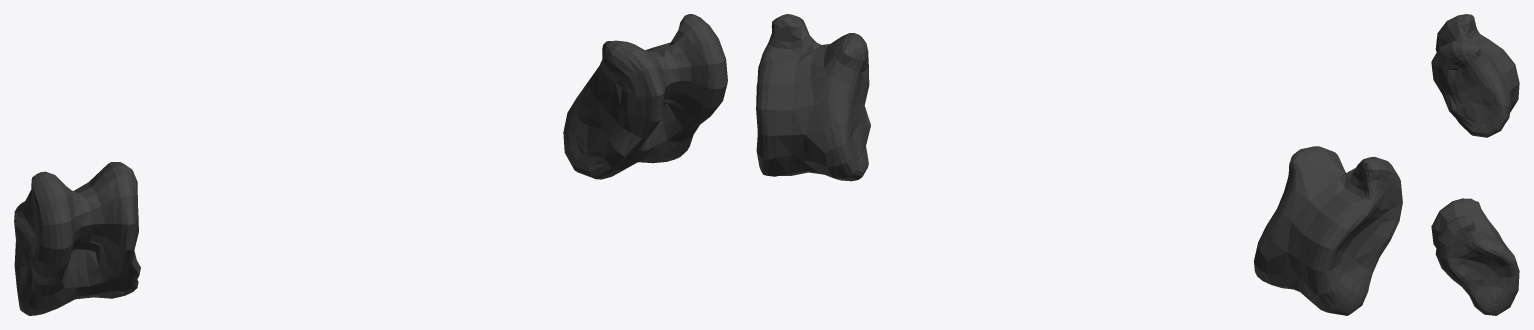
File: b_talus_L_LO.glb
3 renders of one model, left to right at view 1: azimuth 30°, elevation 25°; view 2: azimuth 150°, elevation 25°; view 3: azimuth 270°, elevation 25°, orthographic. The views are drawn at different scales.
Parts seen in each view (by area): view 1: b_talus_L_LO; view 2: b_talus_L_LO; view 3: b_talus_L_LO.
Boxes of the visible parts, x1=… form: b_talus_L_LO: x1=14, y1=14, x2=727, y2=315; b_talus_L_LO: x1=756, y1=14, x2=1402, y2=315; b_talus_L_LO: x1=1431, y1=14, x2=1519, y2=315.
Size of the model in its own units: 0.00356 by 0.000774 by 0.000617.
Materials: 1 (1 with a texture image).
